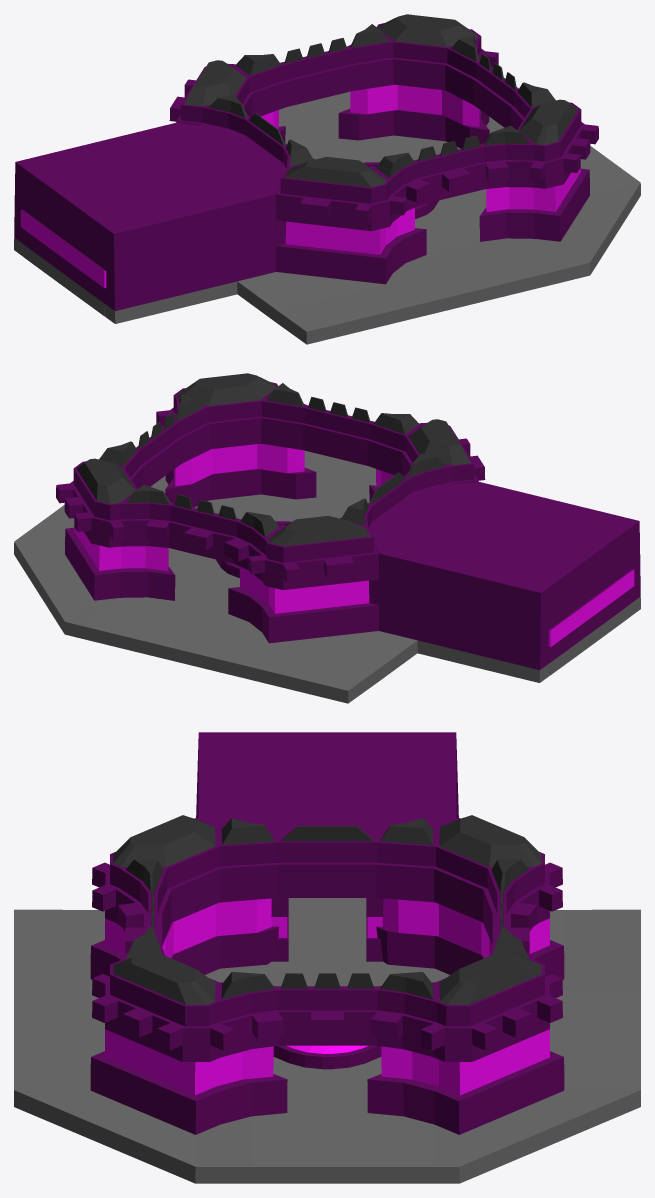
3 renders of one model, top to bottom at view 1: azimuth 30°, elevation 25°; view 2: azimuth 150°, elevation 25°; view 3: azimuth 270°, elevation 25°, orthographic. The views are drawn at different scales.
Visible parts, largest first — view 1: Cube; view 2: Cube; view 3: Cube.
Part boxes in pixels (x1,y1,x2,y2): Cube: (14, 14, 640, 344); Cube: (14, 373, 640, 703); Cube: (14, 732, 640, 1183).
Bounding box in the file's own units: 21.57 × 4.53 × 16.97.
